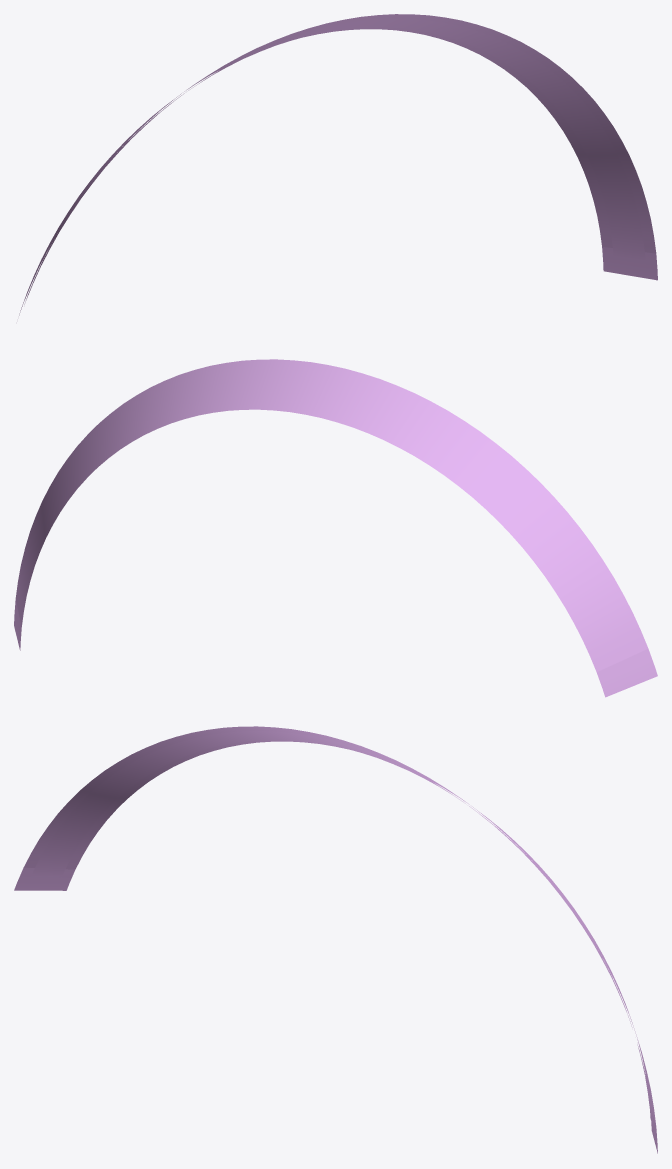
The model's file is Mesh_Note_27.fbx.
3 renders of one model, top to bottom at view 1: azimuth 30°, elevation 25°; view 2: azimuth 150°, elevation 25°; view 3: azimuth 330°, elevation 25°, orthographic.
Visible parts, largest first — view 1: Mesh_Note_27; view 2: Mesh_Note_27; view 3: Mesh_Note_27.
Boxes of the visible parts, x1,y1,x2,y2 form: Mesh_Note_27: [19, 14, 657, 315]; Mesh_Note_27: [14, 359, 657, 697]; Mesh_Note_27: [14, 726, 657, 1153].
Bounding box in the file's own units: 3.45 × 1.74 × 0.2235.
